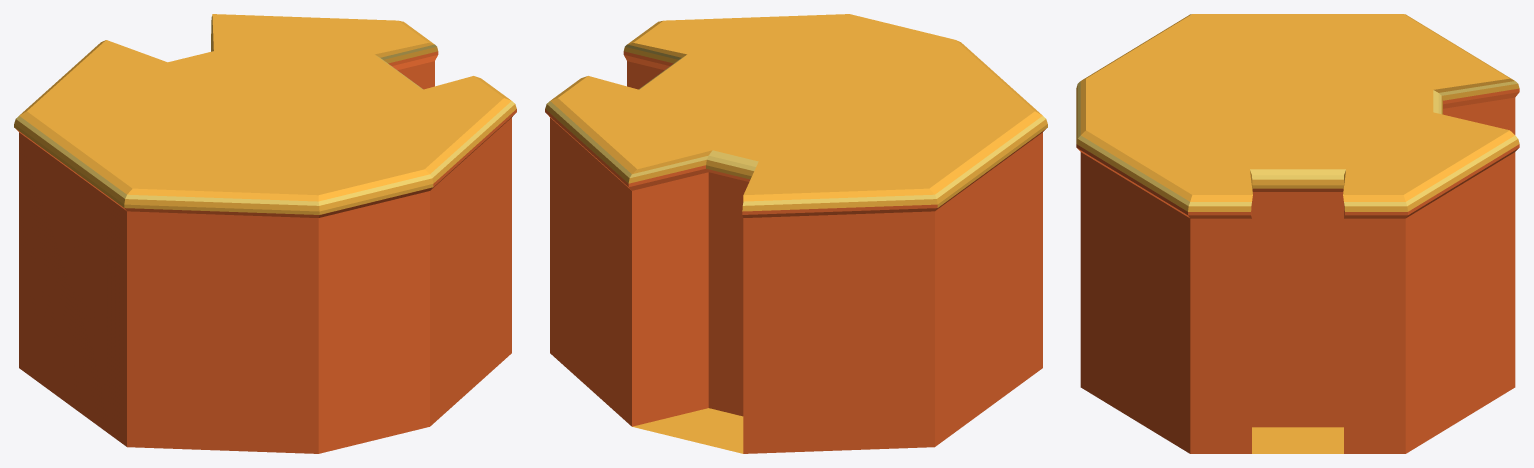
3 renders of one model, left to right at view 1: azimuth 30°, elevation 25°; view 2: azimuth 150°, elevation 25°; view 3: azimuth 270°, elevation 25°, orthographic.
Visible parts, largest first — view 1: Plane Main.001; view 2: Plane Main.001; view 3: Plane Main.001.
Part boxes in pixels (box(x1,y1,x2,y2)): Plane Main.001: box(14, 14, 516, 453); Plane Main.001: box(545, 14, 1047, 453); Plane Main.001: box(1076, 14, 1519, 453).
Size of the model in its own units: 3025 by 1886 by 2963.
